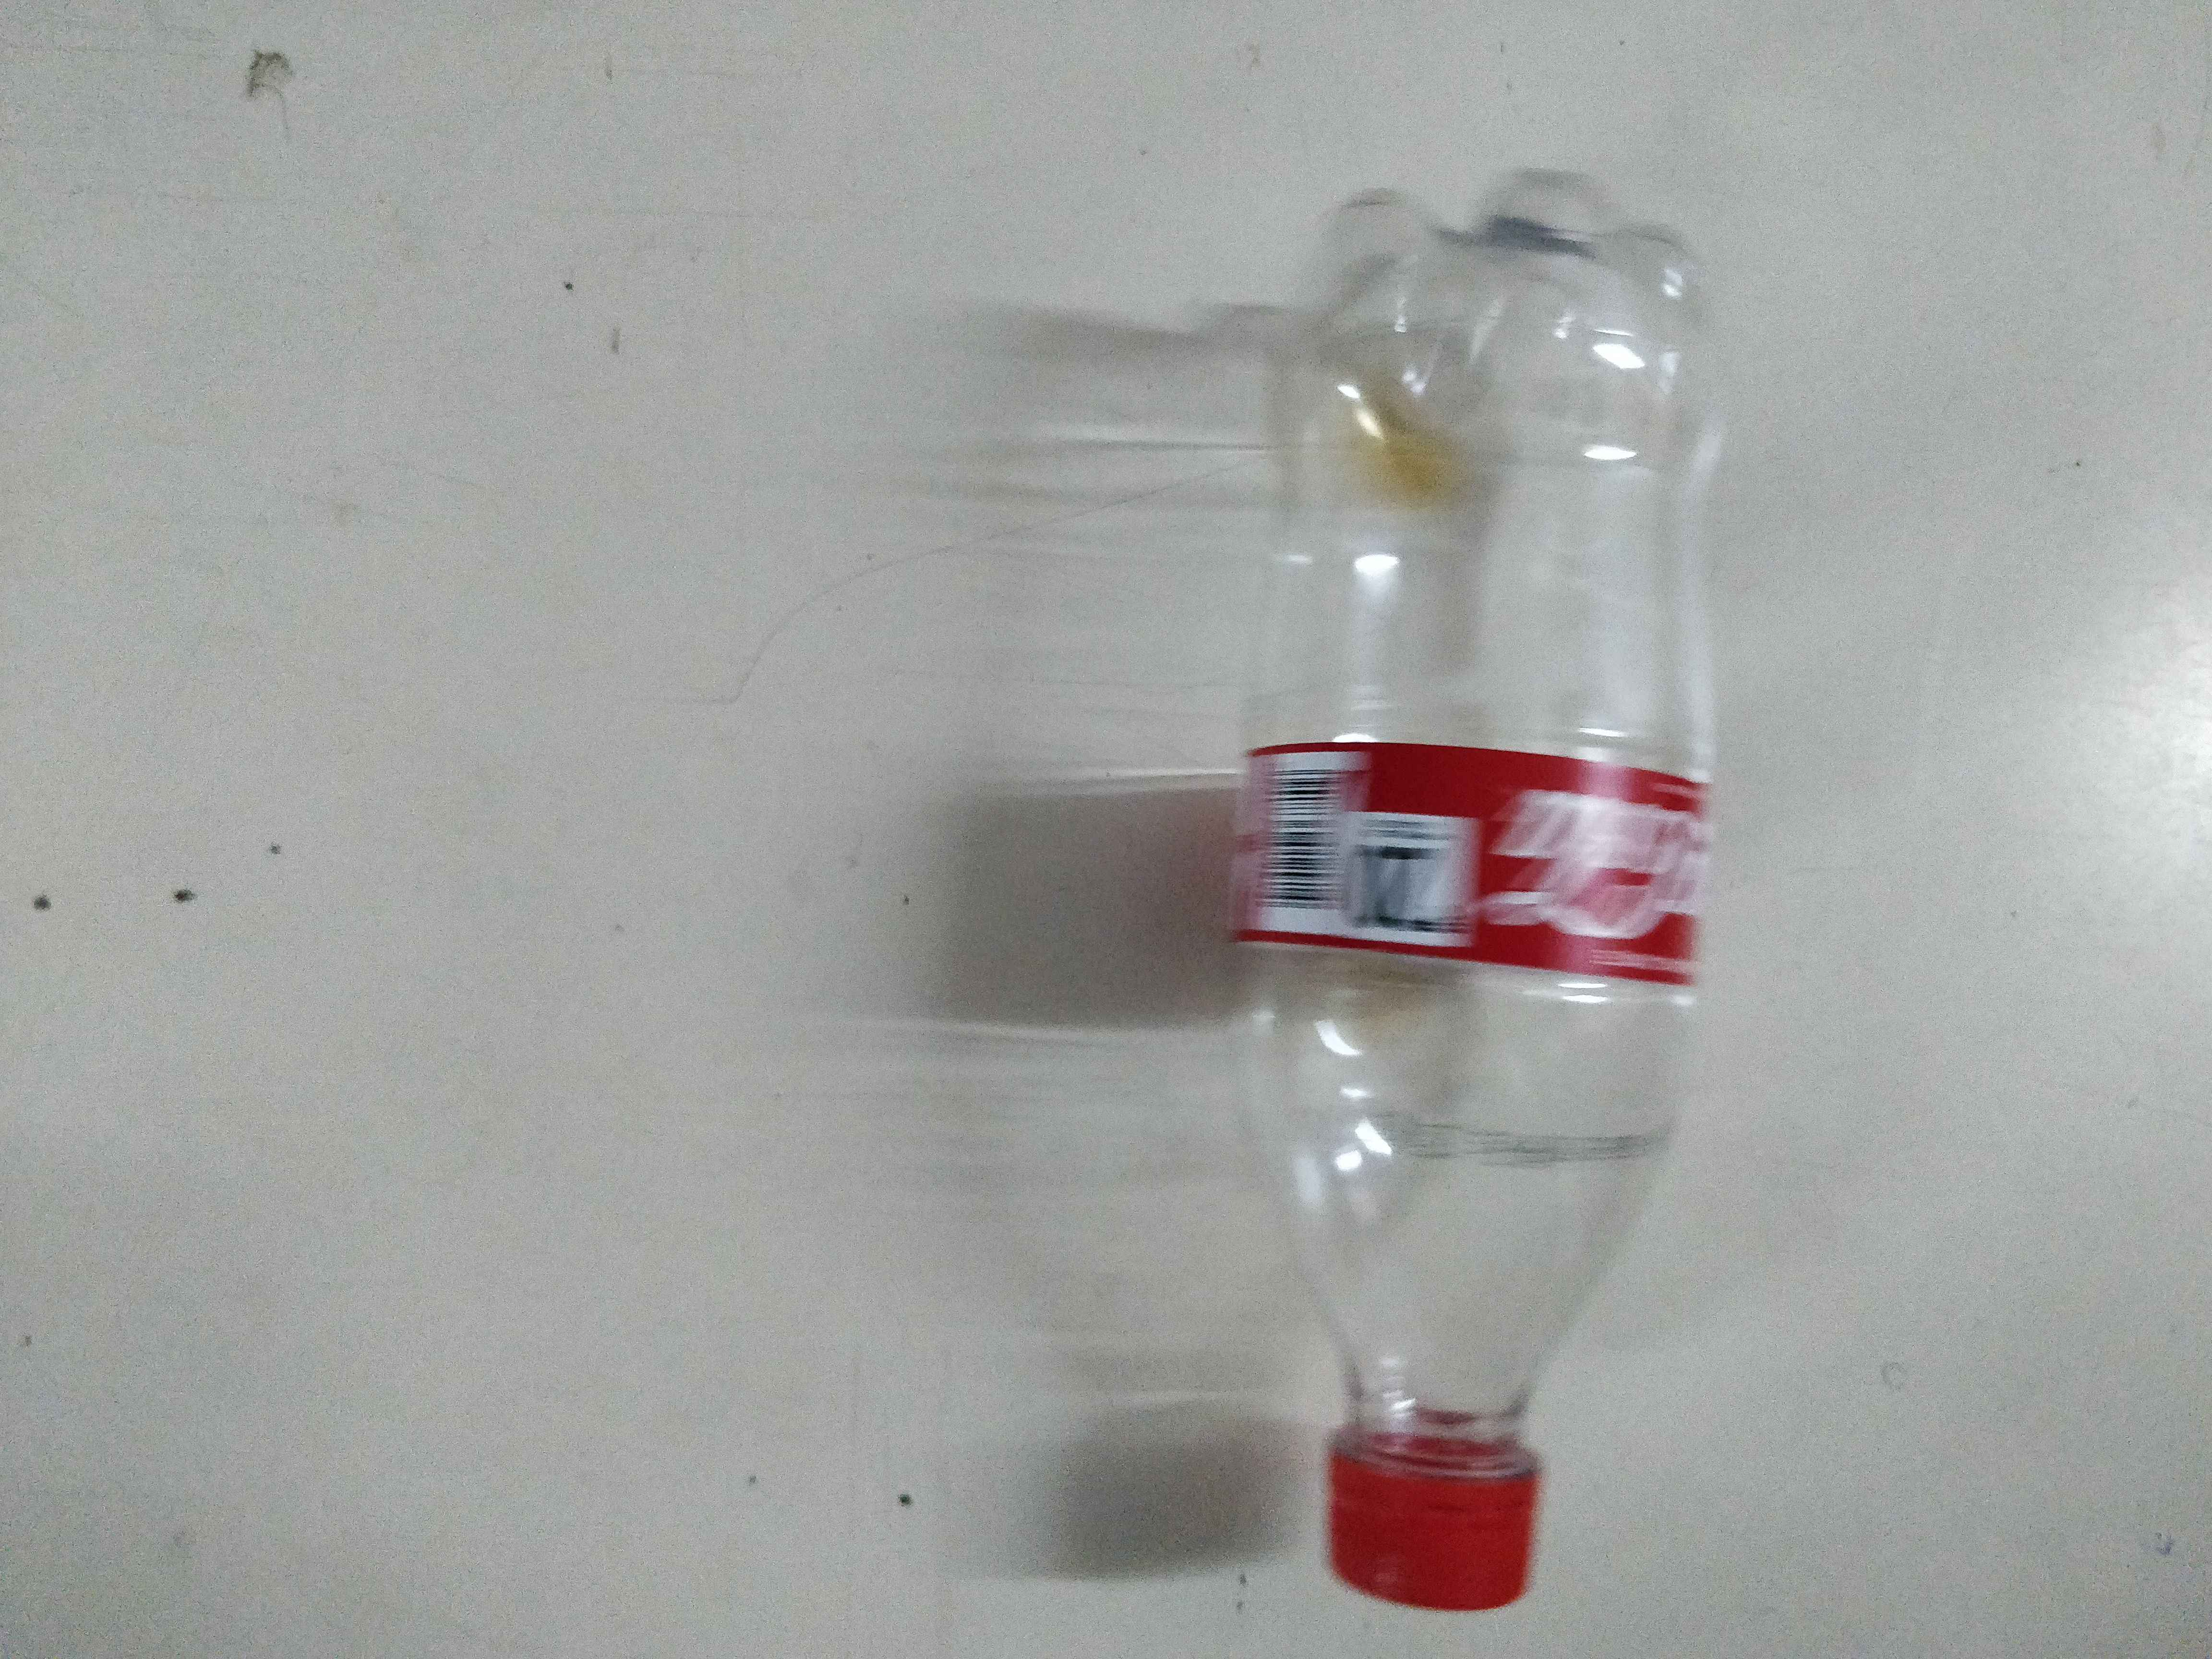Coca-Cola: (1433, 749, 1712, 979)
